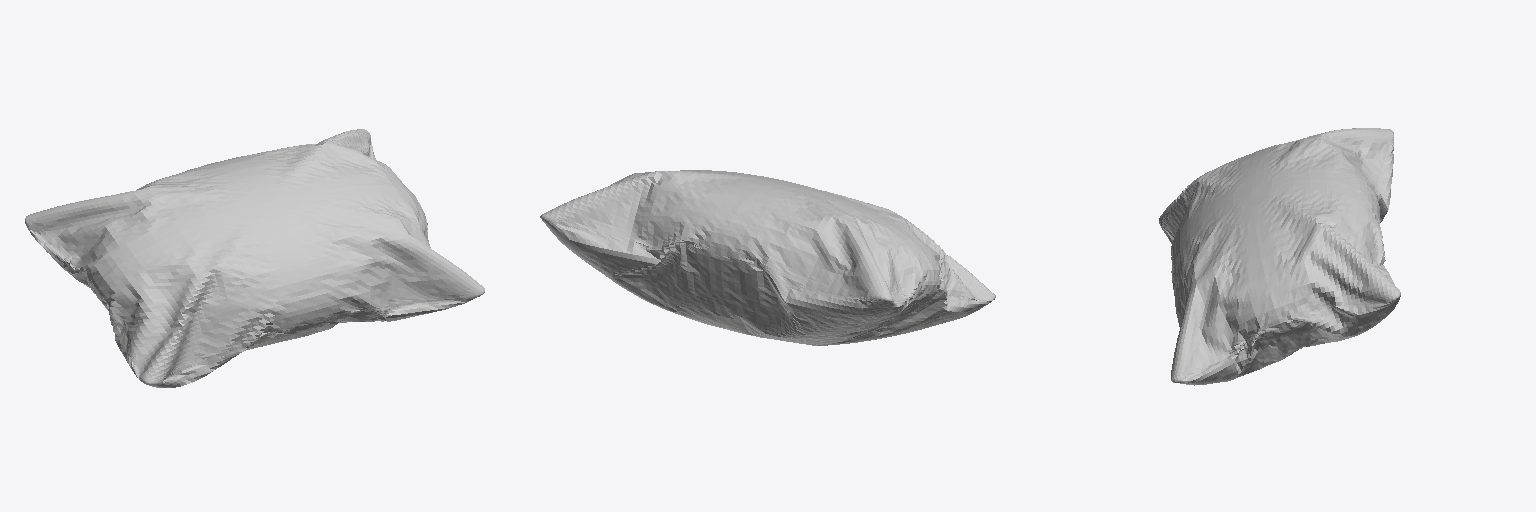
The model's file is almohada.obj.
3 renders of one model, left to right at view 1: azimuth 30°, elevation 25°; view 2: azimuth 150°, elevation 25°; view 3: azimuth 270°, elevation 25°, orthographic.
Parts seen in each view (by area): view 1: almohada_Cubo; view 2: almohada_Cubo; view 3: almohada_Cubo.
Boxes of the visible parts, box(x1,y1,x2,y2) form: almohada_Cubo: box(25, 129, 484, 387); almohada_Cubo: box(540, 170, 995, 345); almohada_Cubo: box(1159, 128, 1400, 385).
Size of the model in its own units: 1.85 by 0.7718 by 1.09.